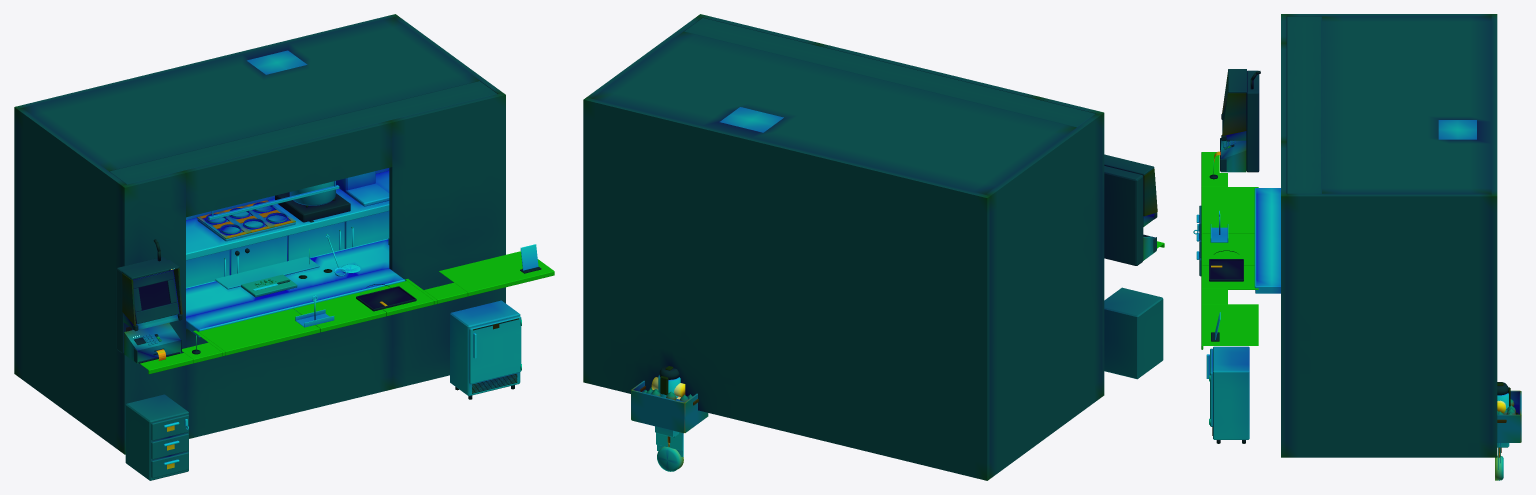
File: kiosk_kitchen.glb
The picture shows the model from 3 angles, left to right: view 1: azimuth 30°, elevation 25°; view 2: azimuth 150°, elevation 25°; view 3: azimuth 270°, elevation 25°; orthographic projection. The views are drawn at different scales.
Parts seen in each view (by area): view 1: SM_Kiosk_Kitchen, SM_Kiosk_KitchenCounter; view 2: SM_Kiosk_Kitchen, SM_KP_crate; view 3: SM_Kiosk_Kitchen, SM_Kiosk_KitchenCounter, SM_KP_crate.
Part boxes in pixels (x1=…): SM_Kiosk_Kitchen: x1=14, y1=14, x2=541, y2=480; SM_Kiosk_KitchenCounter: x1=140, y1=251, x2=554, y2=374; SM_Kiosk_Kitchen: x1=583, y1=14, x2=1163, y2=480; SM_KP_crate: x1=631, y1=380, x2=708, y2=433; SM_Kiosk_Kitchen: x1=1193, y1=14, x2=1497, y2=457; SM_Kiosk_KitchenCounter: x1=1201, y1=152, x2=1258, y2=349; SM_KP_crate: x1=1497, y1=390, x2=1521, y2=442.
Size of the model in its own units: 3.28 by 2.52 by 2.32.
